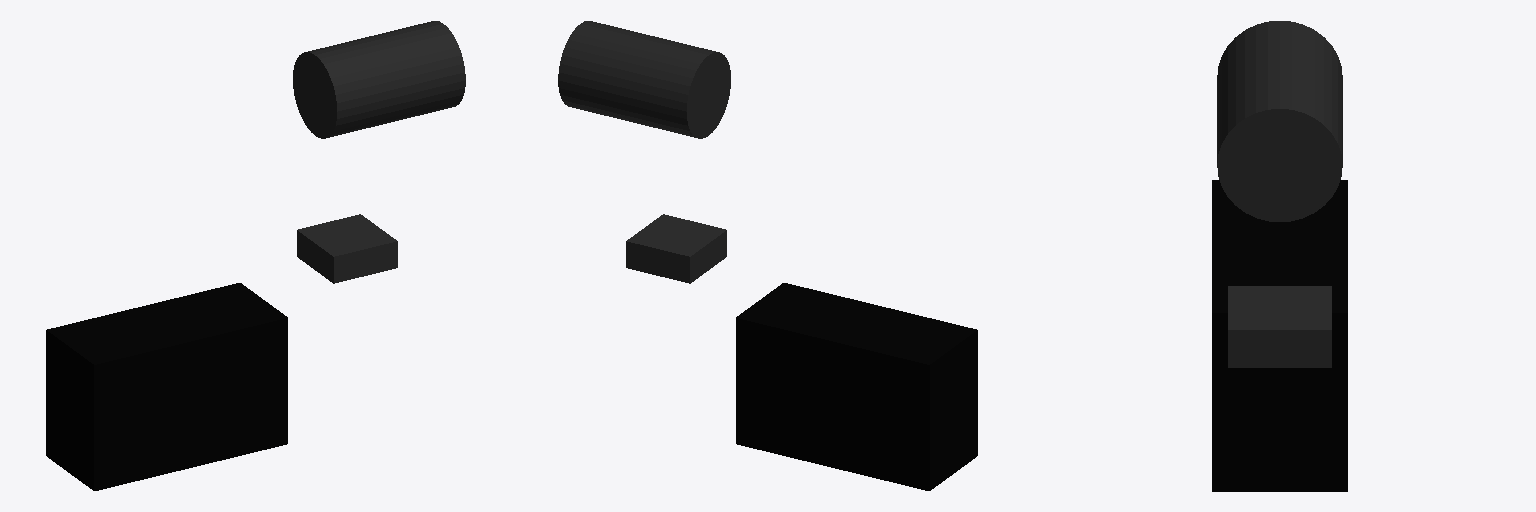
robot.urdf — rs_robot:
<?xml version="1.0" ?>
<!-- =================================================================================== -->
<!-- |    This document was autogenerated by xacro from pioneer3dx.xacro               | -->
<!-- |    EDITING THIS FILE BY HAND IS NOT RECOMMENDED                                 | -->
<!-- =================================================================================== -->
<robot name="rs_robot">
  <material name="black">
    <color rgba="0.0 0.0 0.0 1.0"/>
  </material>
  <material name="blue">
    <color rgba="0.0 0.0 0.8 1.0"/>
  </material>
  <material name="green">
    <color rgba="0.0 0.8 0.0 1.0"/>
  </material>
  <material name="grey">
    <color rgba="0.2 0.2 0.2 1.0"/>
  </material>
  <material name="orange">
    <color rgba="1.0 0.4235294117647059 0.0392156862745098 1.0"/>
  </material>
  <material name="brown">
    <color rgba="0.8705882352941177 0.8117647058823529 0.7647058823529411 1.0"/>
  </material>
  <material name="red">
    <color rgba="0.8 0.0 0.0 1.0"/>
  </material>
  <material name="white">
    <color rgba="1.0 1.0 1.0 1.0"/>
  </material>
  <!-- see https://secure.wikimedia.org/wikipedia/en/wiki/List_of_moment_of_inertia_tensors -->
  <!-- base_link -->
  <link name="base_link"/>
  <!-- Chassis -->
  <joint name="base_link_chassis_joint" type="fixed">
    <origin rpy="0 0 0" xyz="0 0 0"/>
    <parent link="base_link"/>
    <child link="chassis"/>
  </joint>
  <link name="chassis">
    <visual name="chassis_visual">
      <origin rpy="0 0 0" xyz="-0.045 0 0.148"/>
      <geometry name="pioneer_geom">
        <mesh filename="package://td3/urdf/meshes/p3dx/chassis.stl"/>
      </geometry>
      <material name="ChassisRed">
        <color rgba="0.851 0.0 0.0 1.0"/>
      </material>
    </visual>
    <collision>
      <origin rpy="0 0 0" xyz="-0.045 0 0.148"/>
      <geometry>
        <mesh filename="package://td3/urdf/meshes/p3dx/chassis.stl"/>
      </geometry>
    </collision>
    <inertial>
      <mass value="9.0"/>
      <origin xyz="0 0 0"/>
      <inertia ixx="0.07499997000000001" ixy="0.0" ixz="0.0" iyy="0.12149995139999999" iyz="0.0" izz="0.14789994084"/>
    </inertial>
  </link>
  <gazebo reference="chassis">
    <material value="Gazebo/Green"/>
  </gazebo>
  <!-- Top -->
  <joint name="chassis_top_joint" type="fixed">
    <origin rpy="0 0 0" xyz="-0.045 0 0.234"/>
    <parent link="chassis"/>
    <child link="top"/>
  </joint>
  <link name="top">
    <visual>
      <origin rpy="0 0 0" xyz="0 0 0"/>
      <geometry name="top_geom">
        <mesh filename="package://td3/urdf/meshes/p3dx/top.stl"/>
      </geometry>
      <material name="TopBlack">
        <color rgba="0.038 0.038 0.038 1.0"/>
      </material>
    </visual>
    <collision>
      <origin rpy="0 0 0" xyz="0.0 0 0.0"/>
      <geometry>
        <mesh filename="package://td3/urdf/meshes/p3dx/top.stl"/>
      </geometry>
    </collision>
    <inertial>
      <mass value="1.0"/>
      <origin xyz="0 0 0"/>
      <inertia ixx="0.01204166185" ixy="0.0" ixz="0.0" iyy="0.016510410062499998" iyz="0.0" izz="0.028535405252499996"/>
    </inertial>
  </link>
  <gazebo reference="top">
    <material value="Gazebo/Black"/>
  </gazebo>
  <!-- Front Sonar -->
  <joint name="chassis_sonar_joint" type="fixed">
    <origin rpy="0 0 0" xyz="0.109 0 0.209"/>
    <parent link="chassis"/>
    <child link="sonar"/>
  </joint>
  <link name="sonar">
    <inertial>
      <mass value="0.0001"/>
      <origin xyz="0 0 0"/>
      <inertia ixx="1" ixy="0" ixz="0" iyy="1" iyz="0" izz="1"/>
    </inertial>
    <visual name="front_sonar_vis">
      <origin rpy="0 0 0" xyz="0 0 0"/>
      <geometry name="pioneer_geom">
        <mesh filename="package://td3/urdf/meshes/p3dx/back_sonar.stl"/>
      </geometry>
      <material name="SonarYellow">
        <color rgba="0.715 0.583 0.210 1.0"/>
      </material>
    </visual>
    <collision>
      <origin rpy="0 0 0" xyz="0 0 0"/>
      <geometry>
        <box size="0.01 0.01 0.01"/>
      </geometry>
    </collision>
  </link>
  <gazebo reference="sonar">
    <material value="Gazebo/Yellow"/>
  </gazebo>
  <joint name="chassis_battery0_joint" type="fixed">
    <origin rpy="0 0 0" xyz="-0.14 0.0 0.13"/>
    <parent link="chassis"/>
    <child link="battery0"/>
  </joint>
  <link name="battery0">
    <visual name="battery0_visual">
      <origin rpy="0 0 0" xyz="0 0 0"/>
      <geometry name="battery0_geometry">
        <box size="0.151 0.065 0.094"/>
      </geometry>
      <material name="battery0_material">
        <color rgba="0.038 0.038 0.038 1.0"/>
      </material>
    </visual>
    <inertial>
      <mass value="2.5"/>
      <origin xyz="0 0 0"/>
      <inertia ixx="0.0035208319250000005" ixy="0.0" ixz="0.0" iyy="0.007604163625000001" iyz="0.0" izz="0.004083331700000001"/>
    </inertial>
  </link>
  <gazebo reference="battery0">
    <material value="Gazebo/Black"/>
  </gazebo>
  <!-- Hubcap -->
  <joint name="right_hub_joint" type="continuous">
    <origin rpy="0 0 0" xyz="0  0.15 0.09"/>
    <parent link="chassis"/>
    <child link="right_hub"/>
    <axis xyz="0 1 0"/>
  </joint>
  <link name="right_hub">
    <inertial>
      <mass value="0.01"/>
      <origin xyz="0 0 0"/>
      <inertia ixx="0.012411765597" ixy="0" ixz="0" iyy="0.015218160428" iyz="0" izz="0.011763977943"/>
    </inertial>
    <visual name="base_visual">
      <origin rpy="0 0 0" xyz="0 0 0"/>
      <geometry name="pioneer_geom">
        <mesh filename="package://td3/urdf/meshes/p3dx/right_hubcap.stl"/>
      </geometry>
      <material name="HubcapYellow">
        <color rgba="1.0 0.811 0.151 1.0"/>
      </material>
    </visual>
    <collision>
      <origin rpy="0 0 0" xyz="0 0 0"/>
      <geometry>
        <box size="0.01 0.01 0.01"/>
      </geometry>
    </collision>
  </link>
  <gazebo reference="right_hub">
    <material value="Gazebo/Yellow"/>
  </gazebo>
  <!-- Wheel -->
  <joint name="right_wheel_joint" type="fixed">
    <axis xyz="0 1 0"/>
    <origin rpy="0 0 0" xyz="0 0 0"/>
    <parent link="right_hub"/>
    <child link="right_wheel"/>
  </joint>
  <link name="right_wheel">
    <inertial>
      <mass value="0.5"/>
      <origin xyz="0 0 0"/>
      <inertia ixx="0.012411765597" ixy="0" ixz="0" iyy="0.015218160428" iyz="0" izz="0.011763977943"/>
    </inertial>
    <visual name="base_visual">
      <origin rpy="0 0 0" xyz="0 0 0"/>
      <geometry name="pioneer_geom">
        <mesh filename="package://td3/urdf/meshes/p3dx/right_wheel.stl"/>
      </geometry>
      <material name="WheelBlack">
        <color rgba="0.117 0.117 0.117 1"/>
      </material>
    </visual>
    <collision>
      <origin rpy="-1.57079635 0 0" xyz="0 0 0"/>
      <geometry>
        <!--<mesh filename="${meshes}/${side}_wheel.stl"/>-->
        <cylinder length="0.01" radius="0.09"/>
      </geometry>
    </collision>
  </link>
  <gazebo reference="right_wheel">
    <material value="Gazebo/Black"/>
  </gazebo>
  <!-- Hubcap -->
  <joint name="left_hub_joint" type="continuous">
    <origin rpy="0 0 0" xyz="0 -0.15 0.09"/>
    <parent link="chassis"/>
    <child link="left_hub"/>
    <axis xyz="0 1 0"/>
  </joint>
  <link name="left_hub">
    <inertial>
      <mass value="0.01"/>
      <origin xyz="0 0 0"/>
      <inertia ixx="0.012411765597" ixy="0" ixz="0" iyy="0.015218160428" iyz="0" izz="0.011763977943"/>
    </inertial>
    <visual name="base_visual">
      <origin rpy="0 0 0" xyz="0 0 0"/>
      <geometry name="pioneer_geom">
        <mesh filename="package://td3/urdf/meshes/p3dx/left_hubcap.stl"/>
      </geometry>
      <material name="HubcapYellow">
        <color rgba="1.0 0.811 0.151 1.0"/>
      </material>
    </visual>
    <collision>
      <origin rpy="0 0 0" xyz="0 0 0"/>
      <geometry>
        <box size="0.01 0.01 0.01"/>
      </geometry>
    </collision>
  </link>
  <gazebo reference="left_hub">
    <material value="Gazebo/Yellow"/>
  </gazebo>
  <!-- Wheel -->
  <joint name="left_wheel_joint" type="fixed">
    <axis xyz="0 1 0"/>
    <origin rpy="0 0 0" xyz="0 0 0"/>
    <parent link="left_hub"/>
    <child link="left_wheel"/>
  </joint>
  <link name="left_wheel">
    <inertial>
      <mass value="0.5"/>
      <origin xyz="0 0 0"/>
      <inertia ixx="0.012411765597" ixy="0" ixz="0" iyy="0.015218160428" iyz="0" izz="0.011763977943"/>
    </inertial>
    <visual name="base_visual">
      <origin rpy="0 0 0" xyz="0 0 0"/>
      <geometry name="pioneer_geom">
        <mesh filename="package://td3/urdf/meshes/p3dx/left_wheel.stl"/>
      </geometry>
      <material name="WheelBlack">
        <color rgba="0.117 0.117 0.117 1"/>
      </material>
    </visual>
    <collision>
      <origin rpy="-1.57079635 0 0" xyz="0 0 0"/>
      <geometry>
        <!--<mesh filename="${meshes}/${side}_wheel.stl"/>-->
        <cylinder length="0.01" radius="0.09"/>
      </geometry>
    </collision>
  </link>
  <gazebo reference="left_wheel">
    <material value="Gazebo/Black"/>
  </gazebo>
  <!-- Swivel -->
  <joint name="chassis_swivel_joint" type="continuous">
    <origin rpy="0 0 0" xyz="-0.185 0 0.055"/>
    <axis xyz="0 0 1"/>
    <anchor xyz="0 0 0"/>
    <limit effort="100" k_velocity="0" velocity="100"/>
    <joint_properties damping="0.0" friction="0.0"/>
    <parent link="chassis"/>
    <child link="swivel"/>
  </joint>
  <link name="swivel">
    <inertial>
      <mass value="0.1"/>
      <origin xyz="0 0 0"/>
      <inertia ixx="0.01" ixy="0" ixz="0" iyy="0.01" iyz="0" izz="0.01"/>
    </inertial>
    <visual name="base_visual">
      <origin rpy="0 0 0" xyz="0 0 0"/>
      <geometry name="pioneer_geom">
        <mesh filename="package://td3/urdf/meshes/p3dx/swivel.stl"/>
      </geometry>
      <material name="swivel">
        <color rgba="0.5 0.5 0.5 1"/>
      </material>
    </visual>
    <collision>
      <origin rpy="0 0 0" xyz="0 0 0"/>
      <geometry>
        <box size="0.01 0.01 0.01"/>
      </geometry>
    </collision>
  </link>
  <gazebo reference="swivel">
    <material value="Gazebo/Grey"/>
  </gazebo>
  <!-- Center Wheel -->
  <joint name="swivel_wheel_joint" type="continuous">
    <origin rpy="0 0 0" xyz="-0.026 0 -0.016"/>
    <axis xyz="0 1 0"/>
    <anchor xyz="0 0 0"/>
    <limit effort="100" k_velocity="0" velocity="100"/>
    <joint_properties damping="0.0" friction="0.0"/>
    <parent link="swivel"/>
    <child link="center_wheel"/>
  </joint>
  <link name="center_wheel">
    <inertial>
      <mass value="0.1"/>
      <origin xyz="0 0 0"/>
      <inertia ixx="0.012411765597" ixy="-0.000711733678" ixz="0.00050272983" iyy="0.015218160428" iyz="-0.000004273467" izz="0.011763977943"/>
    </inertial>
    <visual name="base_visual">
      <origin rpy="0 0 0" xyz="0 0 0"/>
      <geometry name="pioneer_geom">
        <mesh filename="package://td3/urdf/meshes/p3dx/center_wheel.stl"/>
      </geometry>
      <material name="WheelBlack">
        <color rgba="0.117 0.117 0.117 1"/>
      </material>
    </visual>
    <collision>
      <origin rpy="-1.57079635 0 0" xyz="0 0 0"/>
      <geometry>
        <!--<mesh filename="${meshes}/center_wheel.stl"/>-->
        <cylinder length="0.01" radius="0.0375"/>
      </geometry>
    </collision>
  </link>
  <gazebo reference="center_wheel">
    <material value="Gazebo/Black"/>
  </gazebo>
  <!-- Center Hubcap -->
  <joint name="wheel_hubcap_joint" type="fixed">
    <origin rpy="0 0 0" xyz="-0.0035 0 -0.001"/>
    <parent link="center_wheel"/>
    <child link="center_hubcap"/>
  </joint>
  <link name="center_hubcap">
    <inertial>
      <mass value="0.01"/>
      <origin xyz="0 0 0"/>
      <inertia ixx="0.012411765597" ixy="-0.000711733678" ixz="0.00050272983" iyy="0.015218160428" iyz="-0.000004273467" izz="0.011763977943"/>
    </inertial>
    <visual name="base_visual">
      <origin rpy="0 0 0" xyz="0 0 0"/>
      <geometry name="pioneer_geom">
        <mesh filename="package://td3/urdf/meshes/p3dx/center_hubcap.stl"/>
      </geometry>
      <material name="swivel">
        <color rgba="0.5 0.5 0.5 1"/>
      </material>
    </visual>
    <collision>
      <origin rpy="0 0 0" xyz="0 0 0"/>
      <geometry>
        <box size="0.01 0.01 0.01"/>
      </geometry>
    </collision>
  </link>
  <gazebo reference="center_hubcap">
    <material value="Gazebo/Grey"/>
  </gazebo>
  <joint name="chassis_front_laser_joint" type="fixed">
    <axis xyz="0 0 1"/>
    <origin rpy="0 0 0" xyz="0.125 0 0.25"/>
    <parent link="chassis"/>
    <child link="front_laser"/>
  </joint>
  <link name="front_laser">
    <collision>
      <origin rpy="0 0 0" xyz="0 0 0"/>
      <geometry>
        <box size="0.1 0.1 0.1"/>
      </geometry>
    </collision>
    <visual>
      <origin rpy="0 0 0" xyz="0 0 0"/>
      <geometry>
        <mesh filename="package://td3/urdf/meshes/laser/hokuyo.dae"/>
      </geometry>
    </visual>
    <inertial>
      <mass value="1e-5"/>
      <origin rpy="0 0 0" xyz="0 0 0"/>
      <inertia ixx="1e-6" ixy="0" ixz="0" iyy="1e-6" iyz="0" izz="1e-6"/>
    </inertial>
  </link>
  <joint name="chassis_front_camera_joint" type="fixed">
    <axis xyz="0 0 1"/>
    <origin rpy="0 0 0" xyz="0.025 0 0.32"/>
    <parent link="chassis"/>
    <child link="front_camera"/>
  </joint>
  <!-- Camera -->
  <link name="front_camera">
    <inertial>
      <mass value="1e-5"/>
      <origin rpy="0 0 0" xyz="0 0 0"/>
      <inertia ixx="1e-6" ixy="0" ixz="0" iyy="1e-6" iyz="0" izz="1e-6"/>
    </inertial>
    <visual>
      <origin rpy="0 1.57 0" xyz="0 0 0"/>
      <geometry>
        <cylinder length="0.1" radius="0.03"/>
      </geometry>
      <material name="grey"/>
    </visual>
    <collision>
      <origin rpy="0 1.57 0" xyz="0 0 0"/>
      <geometry>
        <cylinder length="0.1" radius="0.03"/>
      </geometry>
    </collision>
  </link>
  <gazebo reference="front_camera">
    <material value="Gazebo/Grey"/>
  </gazebo>
  <joint name="chassis_cameraD_joint" type="fixed">
    <axis xyz="0 0 1"/>
    <origin rpy="0 0 0" xyz="0.025 0 0.32"/>
    <parent link="chassis"/>
    <child link="cameraD"/>
  </joint>
  <!-- Camera -->
  <link name="cameraD">
    <inertial>
      <mass value="1e-5"/>
      <origin rpy="0 0 0" xyz="0 0 0"/>
      <inertia ixx="1e-6" ixy="0" ixz="0" iyy="1e-6" iyz="0" izz="1e-6"/>
    </inertial>
    <visual>
      <origin rpy="0 1.57 0" xyz="0 0 0"/>
      <geometry>
        <cylinder length="0.1" radius="0.03"/>
      </geometry>
      <material name="grey"/>
    </visual>
    <collision>
      <origin rpy="0 1.57 0" xyz="0 0 0"/>
      <geometry>
        <cylinder length="0.1" radius="0.03"/>
      </geometry>
    </collision>
  </link>
  <gazebo reference="cameraD">
    <material value="Gazebo/Grey"/>
  </gazebo>
  <joint name="velodyne_base_mount_joint" type="fixed">
    <origin rpy="0 0 0" xyz="0.125 0 0.25"/>
    <parent link="base_link"/>
    <child link="velodyne_base_link"/>
  </joint>
  <link name="velodyne_base_link">
    <inertial>
      <mass value="0.83"/>
      <origin xyz="0 0 0.03585"/>
      <inertia ixx="0.000908059425" ixy="0" ixz="0" iyy="0.000908059425" iyz="0" izz="0.0011049624"/>
    </inertial>
    <visual>
      <geometry>
        <mesh filename="package://td3/models/td_robot/velodyne_description/meshes/VLP16_base_1.dae"/>
      </geometry>
    </visual>
    <visual>
      <geometry>
        <mesh filename="package://td3/models/td_robot/velodyne_description/meshes/VLP16_base_2.dae"/>
      </geometry>
    </visual>
    <collision>
      <origin rpy="0 0 0" xyz="0 0 0.03585"/>
      <geometry>
        <cylinder length="0.0717" radius="0.0516"/>
      </geometry>
    </collision>
  </link>
  <joint name="velodyne_base_scan_joint" type="fixed">
    <origin rpy="0 0 0" xyz="0 0 0.0377"/>
    <parent link="velodyne_base_link"/>
    <child link="velodyne"/>
  </joint>
  <link name="velodyne">
    <inertial>
      <mass value="0.01"/>
      <origin xyz="0 0 0"/>
      <inertia ixx="1e-7" ixy="0" ixz="0" iyy="1e-7" iyz="0" izz="1e-7"/>
    </inertial>
    <visual>
      <origin xyz="0 0 -0.0377"/>
      <geometry>
        <mesh filename="package://td3/models/td_robot/velodyne_description/meshes/VLP16_scan.dae"/>
      </geometry>
    </visual>
  </link>
  
  <!-- IMU Joint -->
  <joint name="imu_joint" type="fixed">
    <origin rpy="0 0 0" xyz="0 0 0.2"/>  <!-- Adjust position as needed -->
    <parent link="base_link"/>  <!-- Or base_link, depending on where you want it -->
    <child link="imu_link"/>
  </joint>

  <!-- IMU Link -->
  <link name="imu_link">
    <inertial>
      <mass value="0.01"/>
      <origin xyz="0 0 0"/>
      <inertia ixx="1e-6" ixy="0" ixz="0" iyy="1e-6" iyz="0" izz="1e-6"/>
    </inertial>
    <visual>
      <origin rpy="0 0 0" xyz="0 0 0"/>
      <geometry>
        <box size="0.05 0.05 0.02"/>  <!-- IMU box size -->
      </geometry>
      <material name="grey"/>
    </visual>
    <collision>
      <origin rpy="0 0 0" xyz="0 0 0"/>
      <geometry>
        <box size="0.05 0.05 0.02"/>
      </geometry>
    </collision>
  </link>
 </robot>

--- What the picture shows (computed from the rendered views, not written in the file) ---
Views: 3 orthographic renders of the robot side by side, from view 1: azimuth 30°, elevation 25°; view 2: azimuth 150°, elevation 25°; view 3: azimuth 270°, elevation 25°.
Robot: rs_robot — 18 links, 17 joints (4 continuous, 13 fixed); root link base_link; default pose: all joints at 0.
Links seen in each view (by area): view 1: battery0, front_camera, imu_link; view 2: battery0, front_camera, imu_link; view 3: battery0, front_camera, imu_link.
Link boxes in pixels (x1=…): battery0: x1=46, y1=283, x2=287, y2=490; front_camera: x1=293, y1=21, x2=465, y2=138; imu_link: x1=297, y1=214, x2=397, y2=283; battery0: x1=736, y1=283, x2=977, y2=490; front_camera: x1=558, y1=21, x2=730, y2=138; imu_link: x1=626, y1=214, x2=726, y2=283; battery0: x1=1212, y1=180, x2=1347, y2=491; front_camera: x1=1217, y1=21, x2=1342, y2=221; imu_link: x1=1228, y1=286, x2=1331, y2=367.
Bounding box of the posed robot: 0.2905 × 0.065 × 0.267 m (x, y, z).
Meshes: 14 distinct files referenced, 0 mesh visuals loaded (none loaded); not drawn: 14 (reference not matched to a file when rendering).